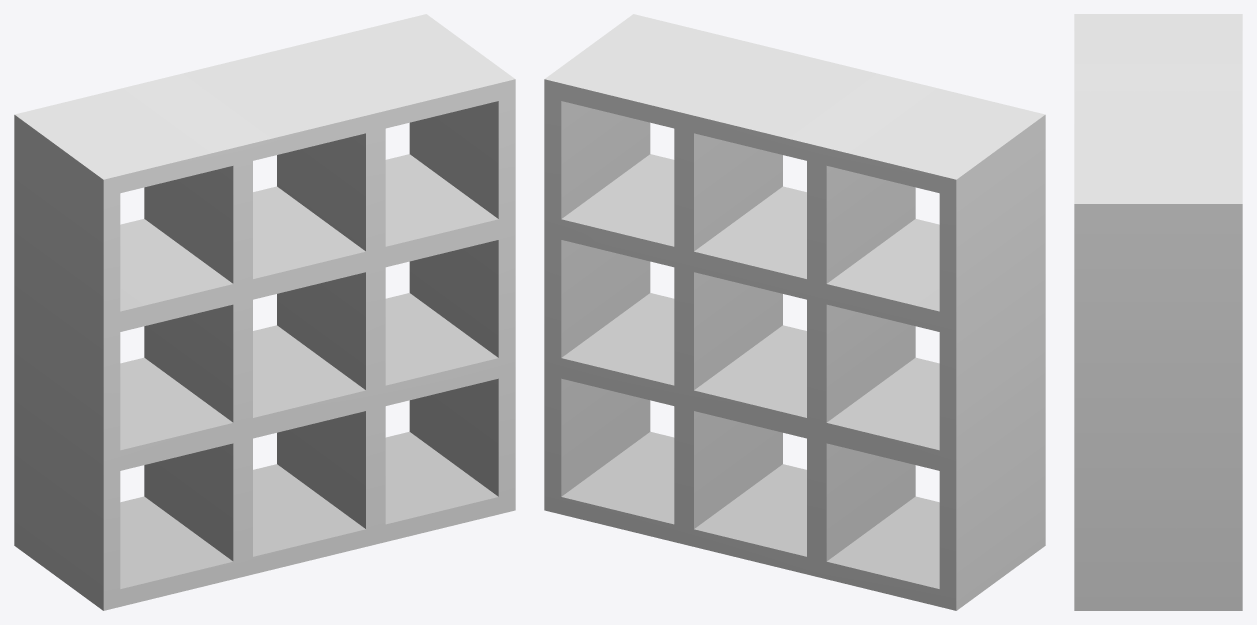
The model's file is Shelf_Cube_3x3_white.fbx.
The picture shows the model from 3 angles, left to right: view 1: azimuth 30°, elevation 25°; view 2: azimuth 150°, elevation 25°; view 3: azimuth 270°, elevation 25°; orthographic projection. The views are drawn at different scales.
Parts seen in each view (by area): view 1: Shelf_Cube_3x3.white; view 2: Shelf_Cube_3x3.white; view 3: Shelf_Cube_3x3.white.
Part boxes in pixels (x1,y1,x2,y2): Shelf_Cube_3x3.white: [14, 14, 515, 610]; Shelf_Cube_3x3.white: [544, 14, 1045, 610]; Shelf_Cube_3x3.white: [1074, 14, 1242, 610].
Size of the model in its own units: 200 by 200 by 74.89.
